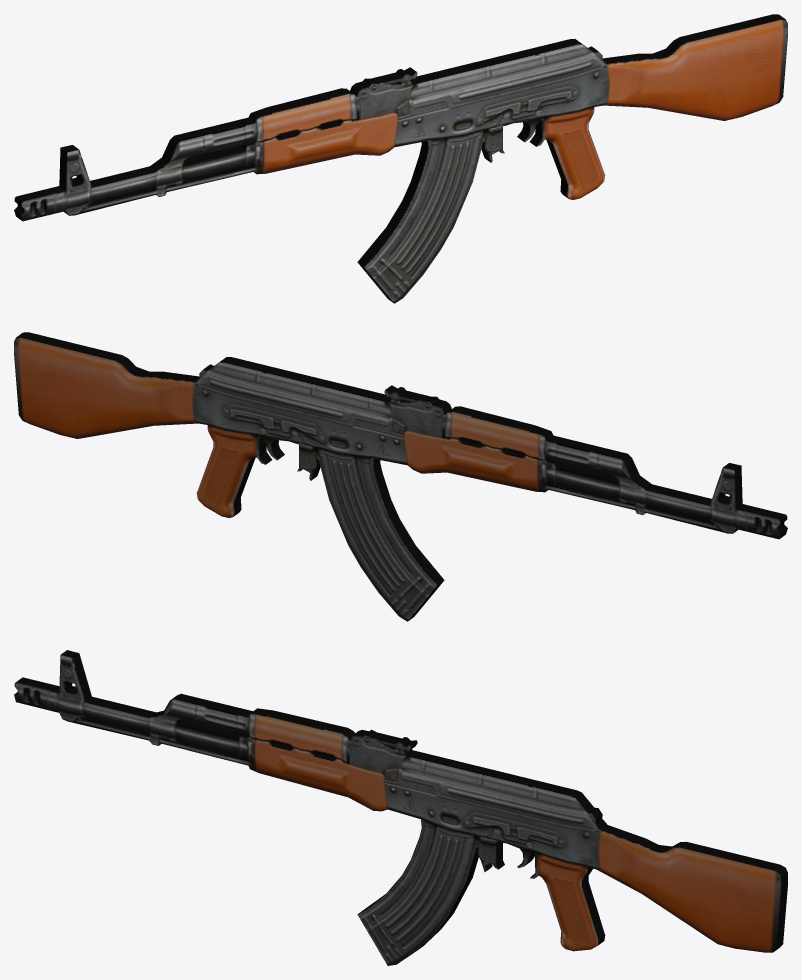
3 renders of one model, top to bottom at view 1: azimuth 30°, elevation 25°; view 2: azimuth 150°, elevation 25°; view 3: azimuth 330°, elevation 25°, orthographic.
Parts seen in each view (by area): view 1: Object_4, Object_5; view 2: Object_6, Object_5; view 3: Object_4, Object_5.
Boxes of the visible parts, <box> form: Object_4: <box>21,19,787,303</box>; Object_5: <box>14,14,784,302</box>; Object_6: <box>14,337,780,621</box>; Object_5: <box>17,332,787,620</box>; Object_4: <box>14,655,781,965</box>; Object_5: <box>15,650,787,951</box>.
Bounding box in the file's own units: 19.92 × 5.74 × 0.7096.
3 materials, 2 textured.
